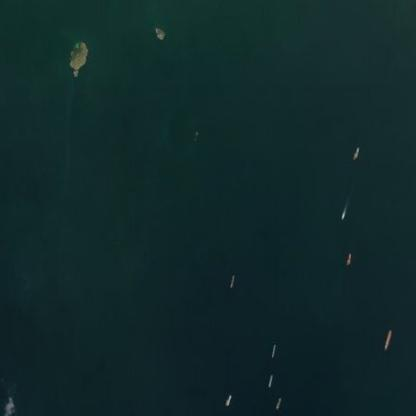ship: (378, 327, 397, 352), (225, 266, 239, 294), (347, 142, 365, 163), (264, 340, 281, 359), (341, 250, 358, 269), (335, 202, 350, 222), (220, 387, 234, 408), (262, 370, 278, 388), (268, 393, 284, 411)
